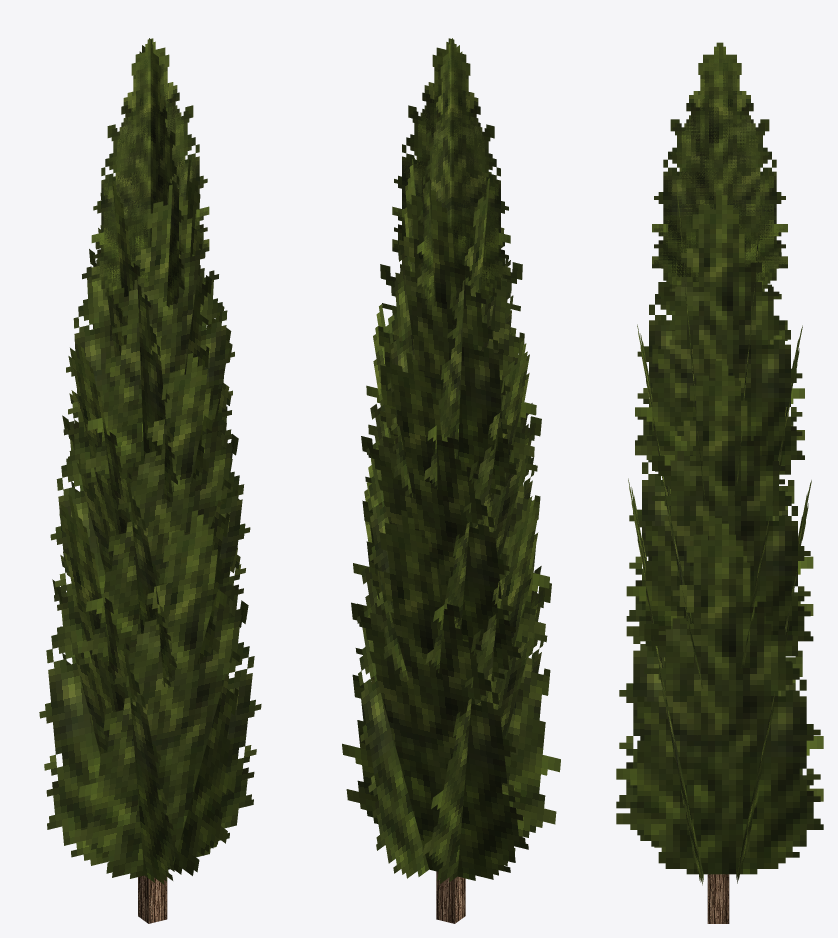
Rendered from cypress_pot_small.obj.
3 renders of one model, left to right at view 1: azimuth 30°, elevation 25°; view 2: azimuth 150°, elevation 25°; view 3: azimuth 270°, elevation 25°, orthographic.
Visible parts, largest first — view 1: Leaves.029, Leaves.033, Leaves.037, Leaves.030, Leaves.040, Leaves.044, Leaves.034, Leaves.028, Leaves.031, Leaves.038, Leaves.036, Leaves.041 (+5 smaller); view 2: Leaves.028, Leaves.032, Leaves.036, Leaves.040, Leaves.030, Leaves.031, Leaves.034, Leaves.029, Leaves.044, Leaves.038, Leaves.041, Leaves.035 (+5 smaller); view 3: Leaves.031, Leaves.035, Leaves.039, Leaves.041, Leaves.045, Leaves.030, Leaves.034, Leaves.038, Leaves.029, Leaves.028, Trunk.004_Cube.008, Leaves.033 (+2 smaller).
Part boxes in pixels (x1,y1,x2,y2): Leaves.029: (74,510,261,878); Leaves.033: (81,353,250,673); Leaves.037: (85,184,234,499); Leaves.030: (52,494,180,884); Leaves.040: (91,38,209,288); Leaves.044: (91,38,209,298); Leaves.034: (62,339,177,686); Leaves.028: (39,587,114,865); Leaves.031: (173,458,248,875); Leaves.038: (89,178,177,502); Leaves.036: (66,176,115,486); Leaves.041: (139,38,184,307); Leaves.028: (342,510,528,880); Leaves.032: (353,352,520,681); Leaves.036: (366,185,516,497); Leaves.040: (392,38,510,298); Leaves.030: (423,496,543,884); Leaves.031: (357,458,428,878); Leaves.034: (425,340,535,672); Leaves.029: (501,483,560,865); Leaves.044: (392,38,510,298); Leaves.038: (424,178,513,489); Leaves.041: (417,38,458,306); Leaves.035: (366,304,408,680); Leaves.031: (616,518,823,874); Leaves.035: (626,360,813,668); Leaves.039: (635,190,804,488); Leaves.041: (652,42,787,288); Leaves.045: (652,42,787,291); Leaves.030: (616,636,823,851); Leaves.034: (626,460,813,651); Leaves.038: (635,252,804,471); Leaves.029: (628,478,703,885); Leaves.028: (736,480,811,883); Trunk.004_Cube.008: (707,874,729,923); Leaves.033: (637,324,703,688).
Bounding box in the file's own units: 0.5808 × 2.71 × 0.5808.
